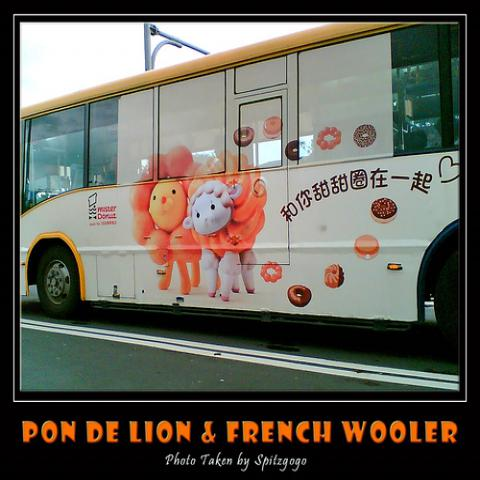bus: (22, 25, 459, 361)
